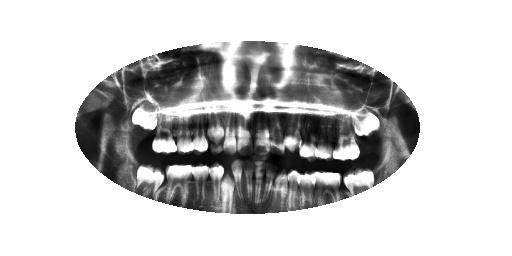Cavity: (207, 118, 225, 154)
